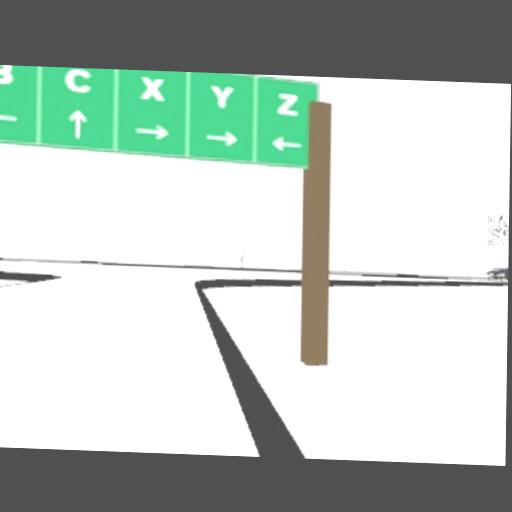Left: (0, 108, 16, 126)
